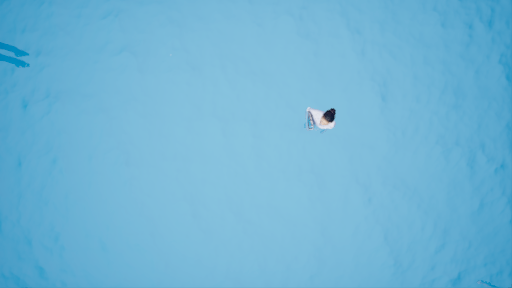person: (305, 107, 339, 133)
